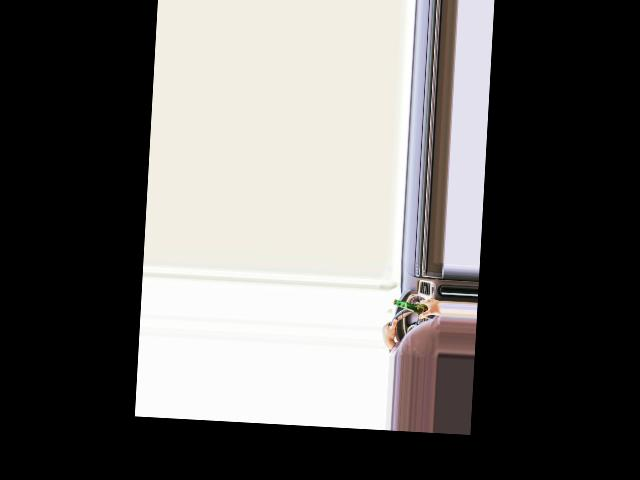beer: (392, 298, 437, 319)
